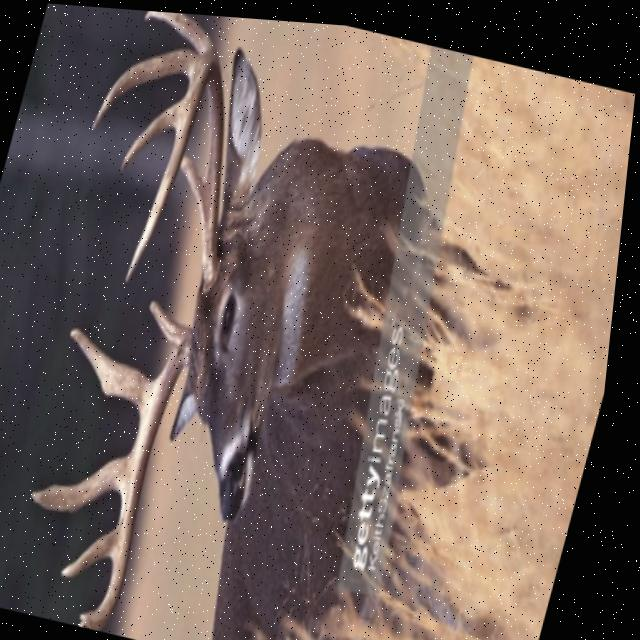L-F: (128, 44, 226, 290)
L-G1: (181, 151, 207, 211)
L-G2: (142, 8, 213, 50)
L-G3: (92, 45, 196, 133)
L-G4: (122, 89, 187, 172)
R-F: (89, 321, 198, 629)
R-G1: (153, 296, 192, 343)
R-G2: (73, 324, 166, 425)
R-G3: (39, 442, 142, 515)
R-G4: (71, 519, 128, 578)
